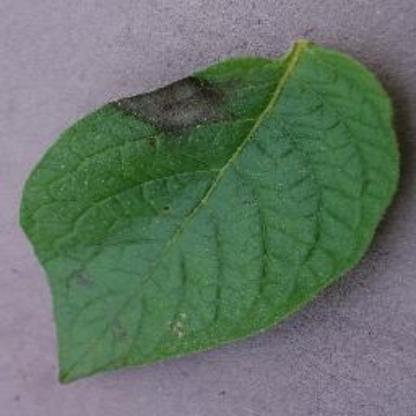Late-Blight: (14, 34, 402, 384)
